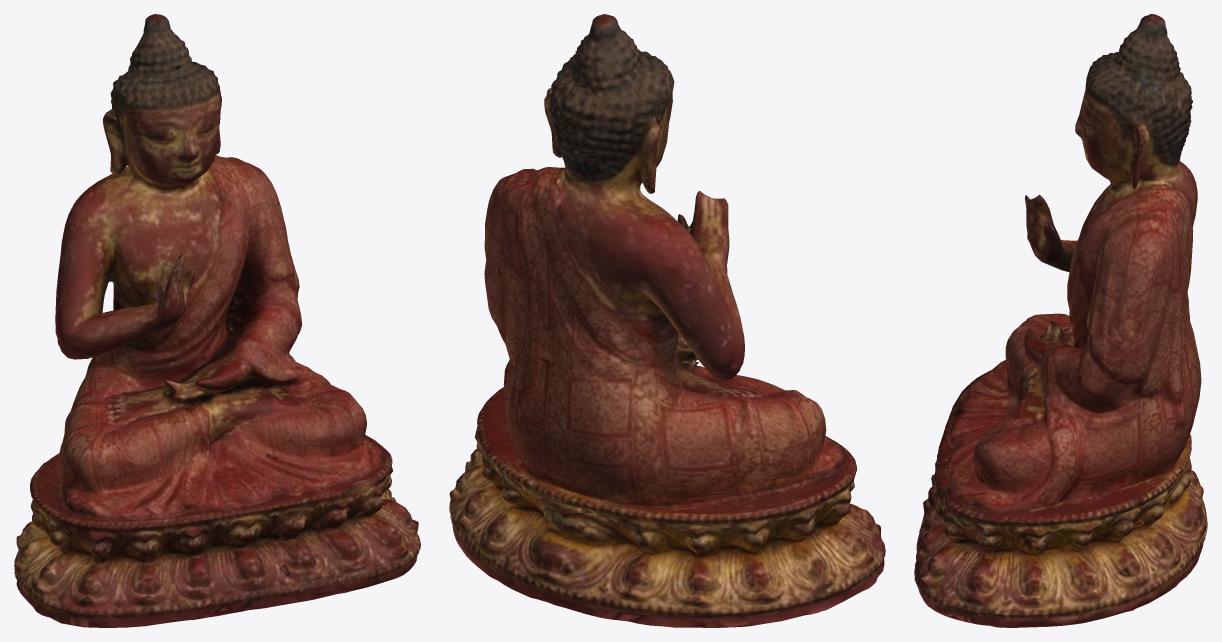
The model's file is chinese_amoghasiddhi_buddha_1403_-_1424_ce.glb.
The picture shows the model from 3 angles, left to right: view 1: azimuth 30°, elevation 25°; view 2: azimuth 150°, elevation 25°; view 3: azimuth 270°, elevation 25°; orthographic projection. The views are drawn at different scales.
Parts seen in each view (by area): view 1: Object_2; view 2: Object_2; view 3: Object_2.
Part boxes in pixels (left/top/right/bottom): Object_2: left=14, top=14, right=420, bottom=627; Object_2: left=449, top=14, right=885, bottom=627; Object_2: left=914, top=14, right=1207, bottom=627.
Bounding box in the file's own units: 0.145 × 0.1969 × 0.0994.
Materials: 1 (1 with a texture image).
